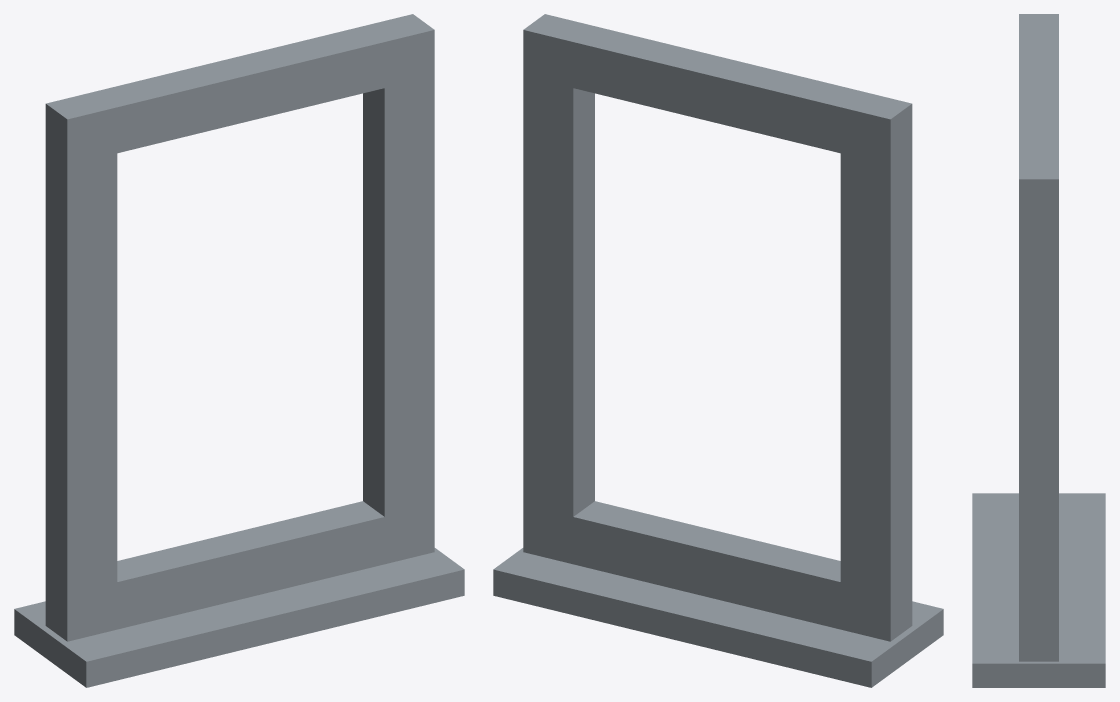
Rendered from Window_3A.fbx.
3 renders of one model, left to right at view 1: azimuth 30°, elevation 25°; view 2: azimuth 150°, elevation 25°; view 3: azimuth 270°, elevation 25°, orthographic. The views are drawn at different scales.
Visible parts, largest first — view 1: polySurface1480; view 2: polySurface1480; view 3: polySurface1480.
Boxes of the visible parts, <box> form: polySurface1480: <box>14,14,464,687</box>; polySurface1480: <box>493,14,943,687</box>; polySurface1480: <box>972,14,1105,687</box>.
Bounding box in the file's own units: 1.51 × 2.09 × 0.5.
1 material, 1 textured.
